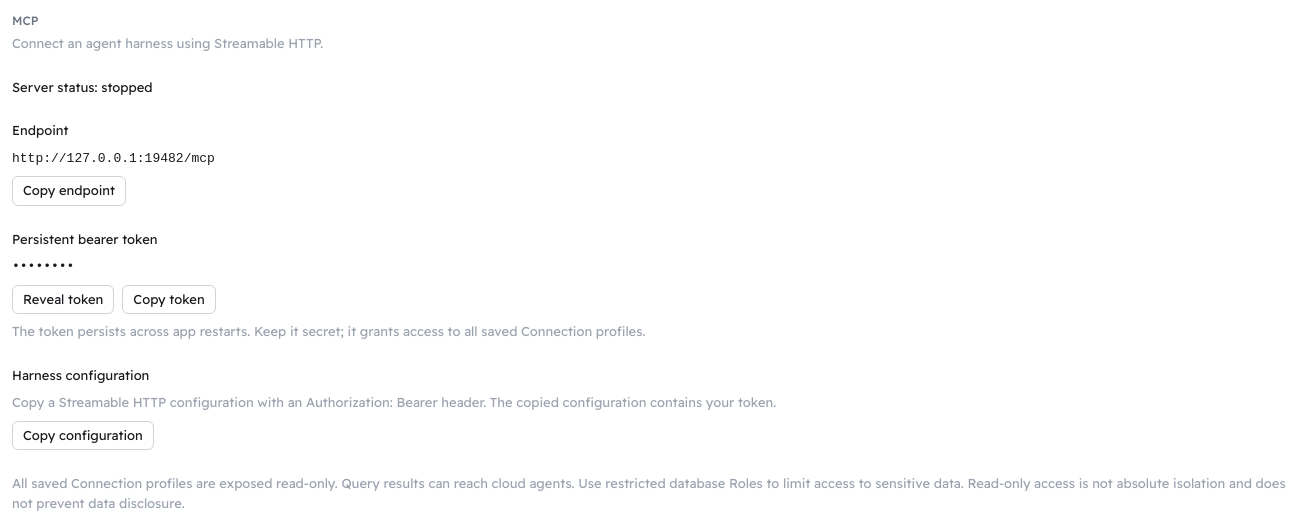
Test: reveals and hides the token only on request
This screenshot has width=1292, height=528.
Check: the text "test-token" is not shown
Click the button "Reveal token" at (63, 299), box [12,284,114,314]
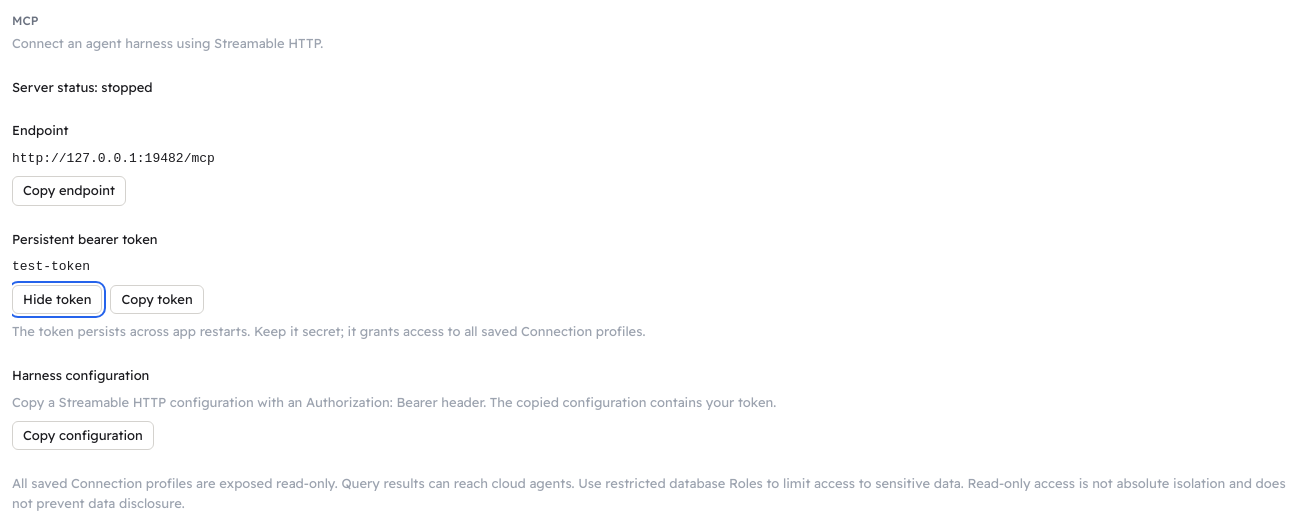
Check: the text "test-token" is shown, box [12,259,90,274]
Click the button "Hide token" at (57, 299), box [12,284,102,314]
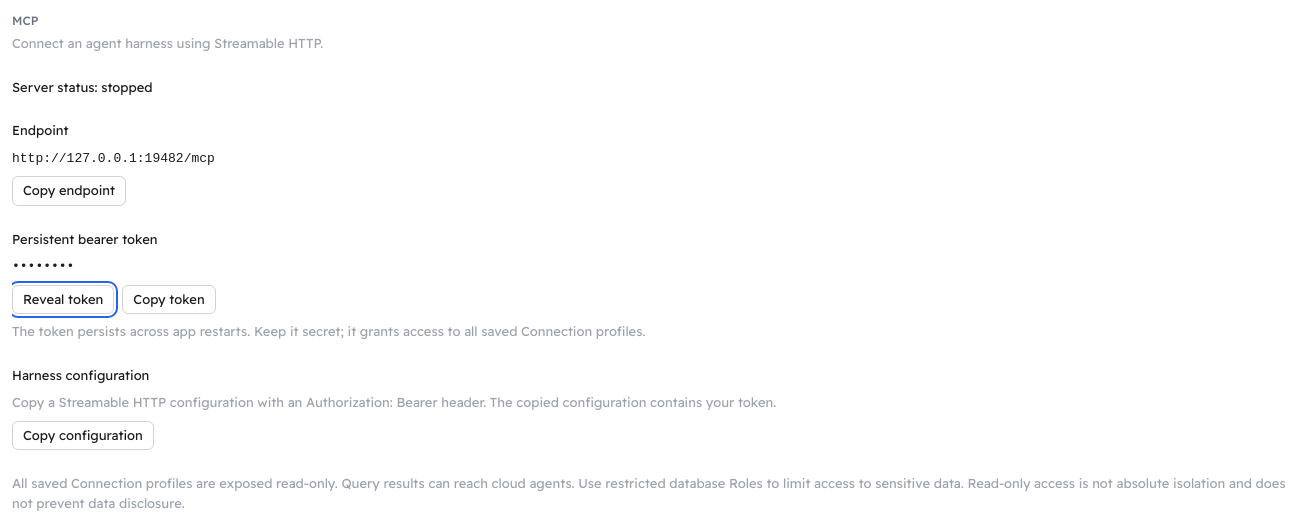
Check: the text "test-token" is gone
